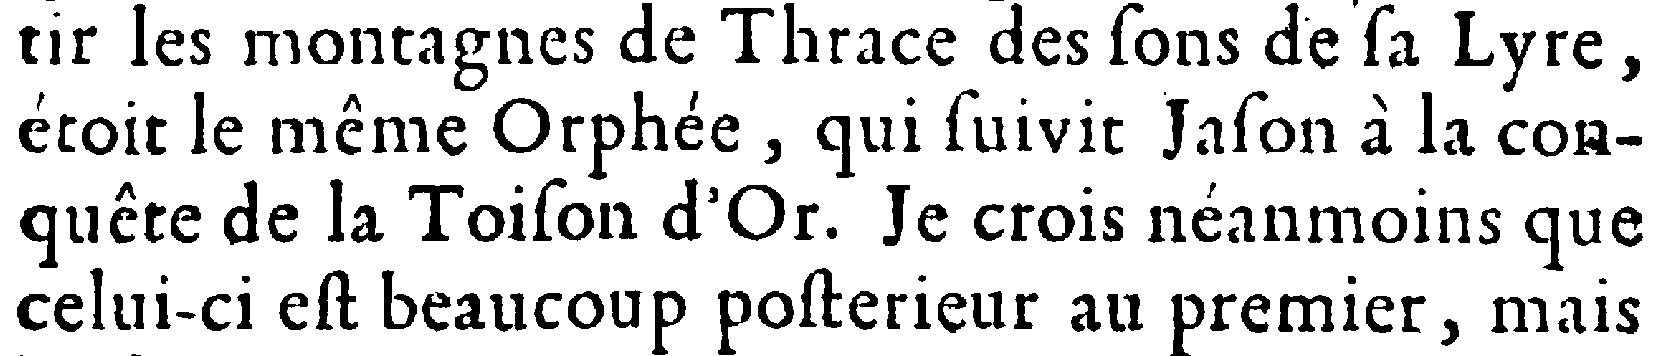st: (313, 263, 360, 337), (802, 263, 843, 337)
